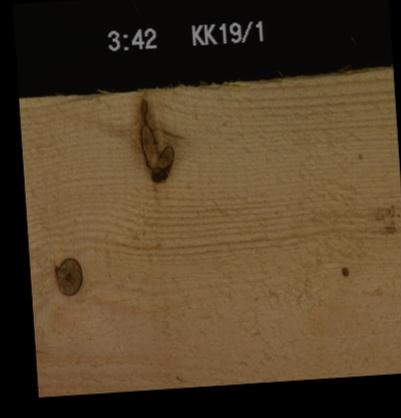dry_knot: (52, 255, 82, 296)
small_knot: (337, 263, 349, 277)
